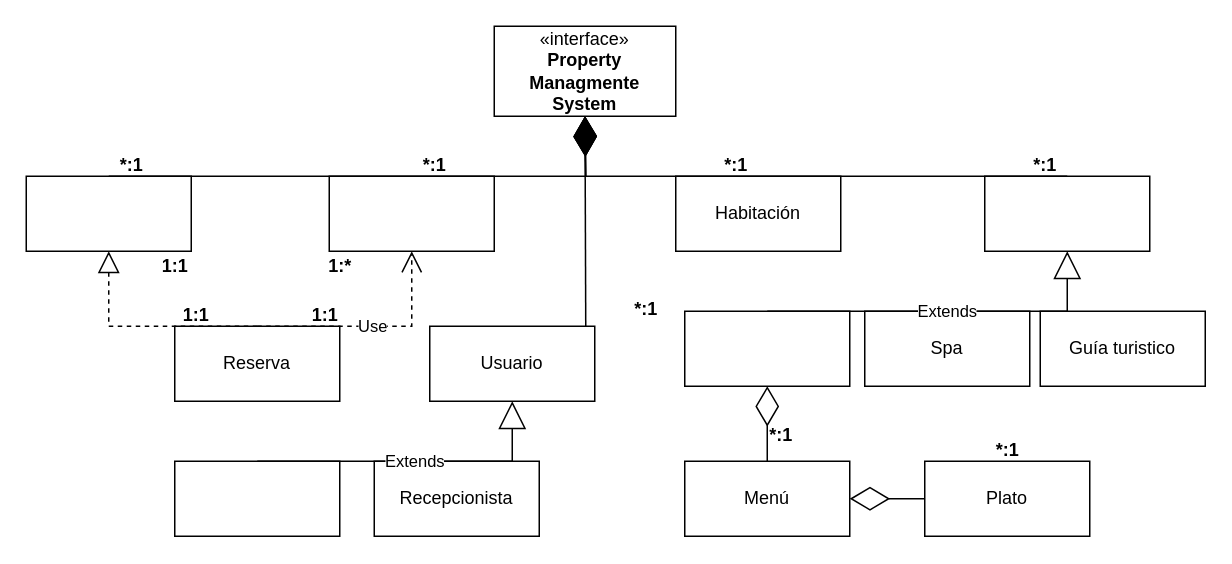
The diagram is 1232 pixels wide and 564 high, and some of its shapes have lost their labels. The shapes that lost their labels are listed below. From the top down, each one's box as (x1, y1, x2, y2) in pixels, then its label:
(25, 175, 191, 251): Factura
(328, 175, 494, 251): Cliente
(983, 175, 1150, 251): Servicio
(683, 310, 850, 386): Restaurante
(173, 460, 340, 536): Administrador
